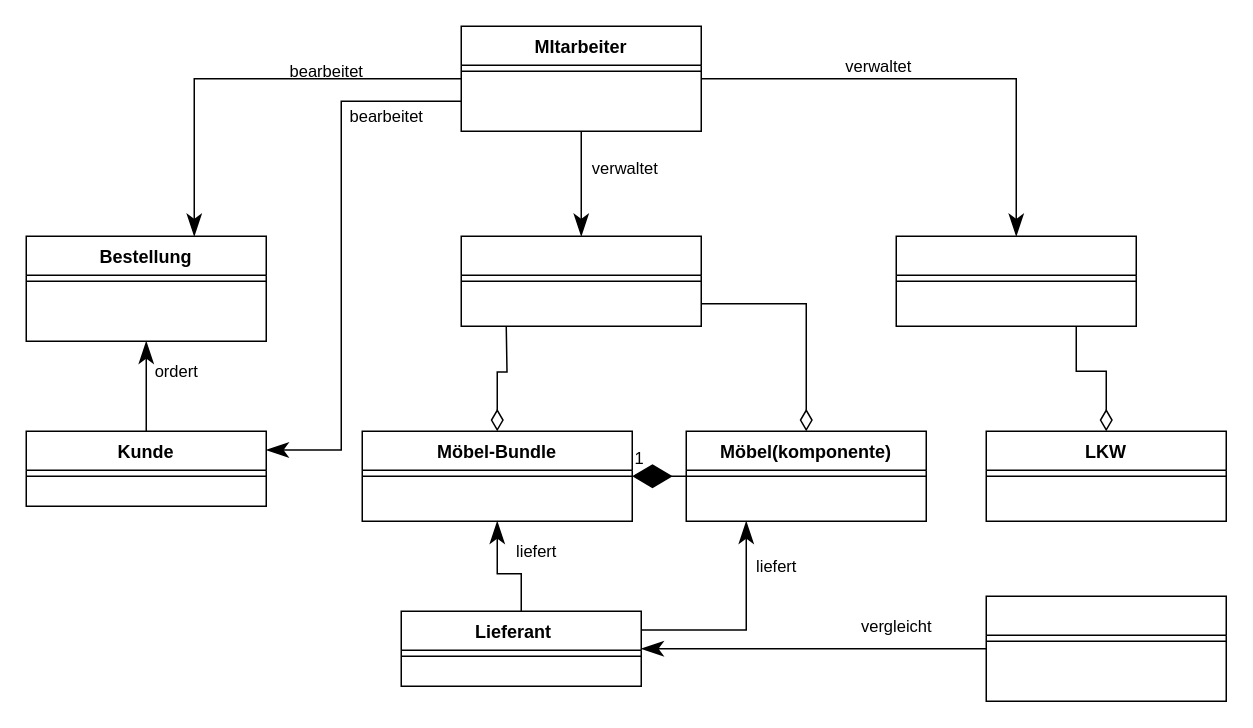
Some shapes in this 1253 by 728 pixel diagram are drawn without their labels. The shapes that lost their labels are listed below. From the top down, each one's centre as x and y in pixels, then its label:
(580,280): Lager
(1015,280): Fuhrpark
(1105,648): Analyse
